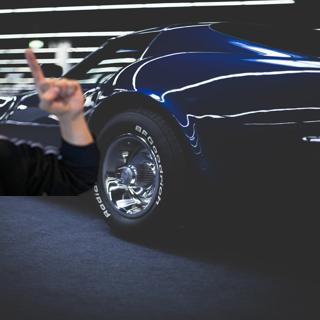IRRITATED: (21, 47, 85, 117)
